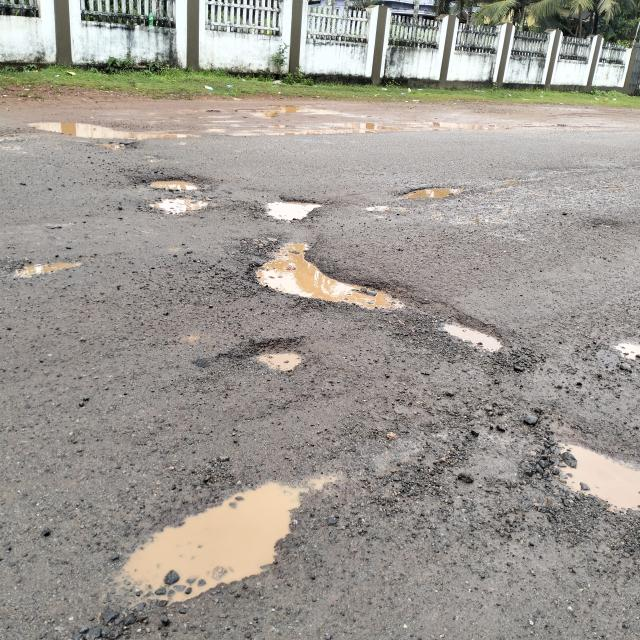pothole: (90, 466, 352, 628), (239, 232, 426, 324), (536, 407, 640, 547), (358, 173, 488, 216), (118, 171, 226, 222), (427, 313, 518, 367), (0, 249, 93, 291), (255, 186, 338, 228), (246, 338, 313, 384), (606, 324, 640, 374), (85, 140, 146, 154), (590, 215, 624, 235)
